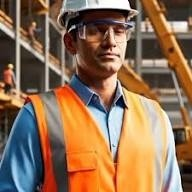safety_goggles: (59, 18, 144, 44)
